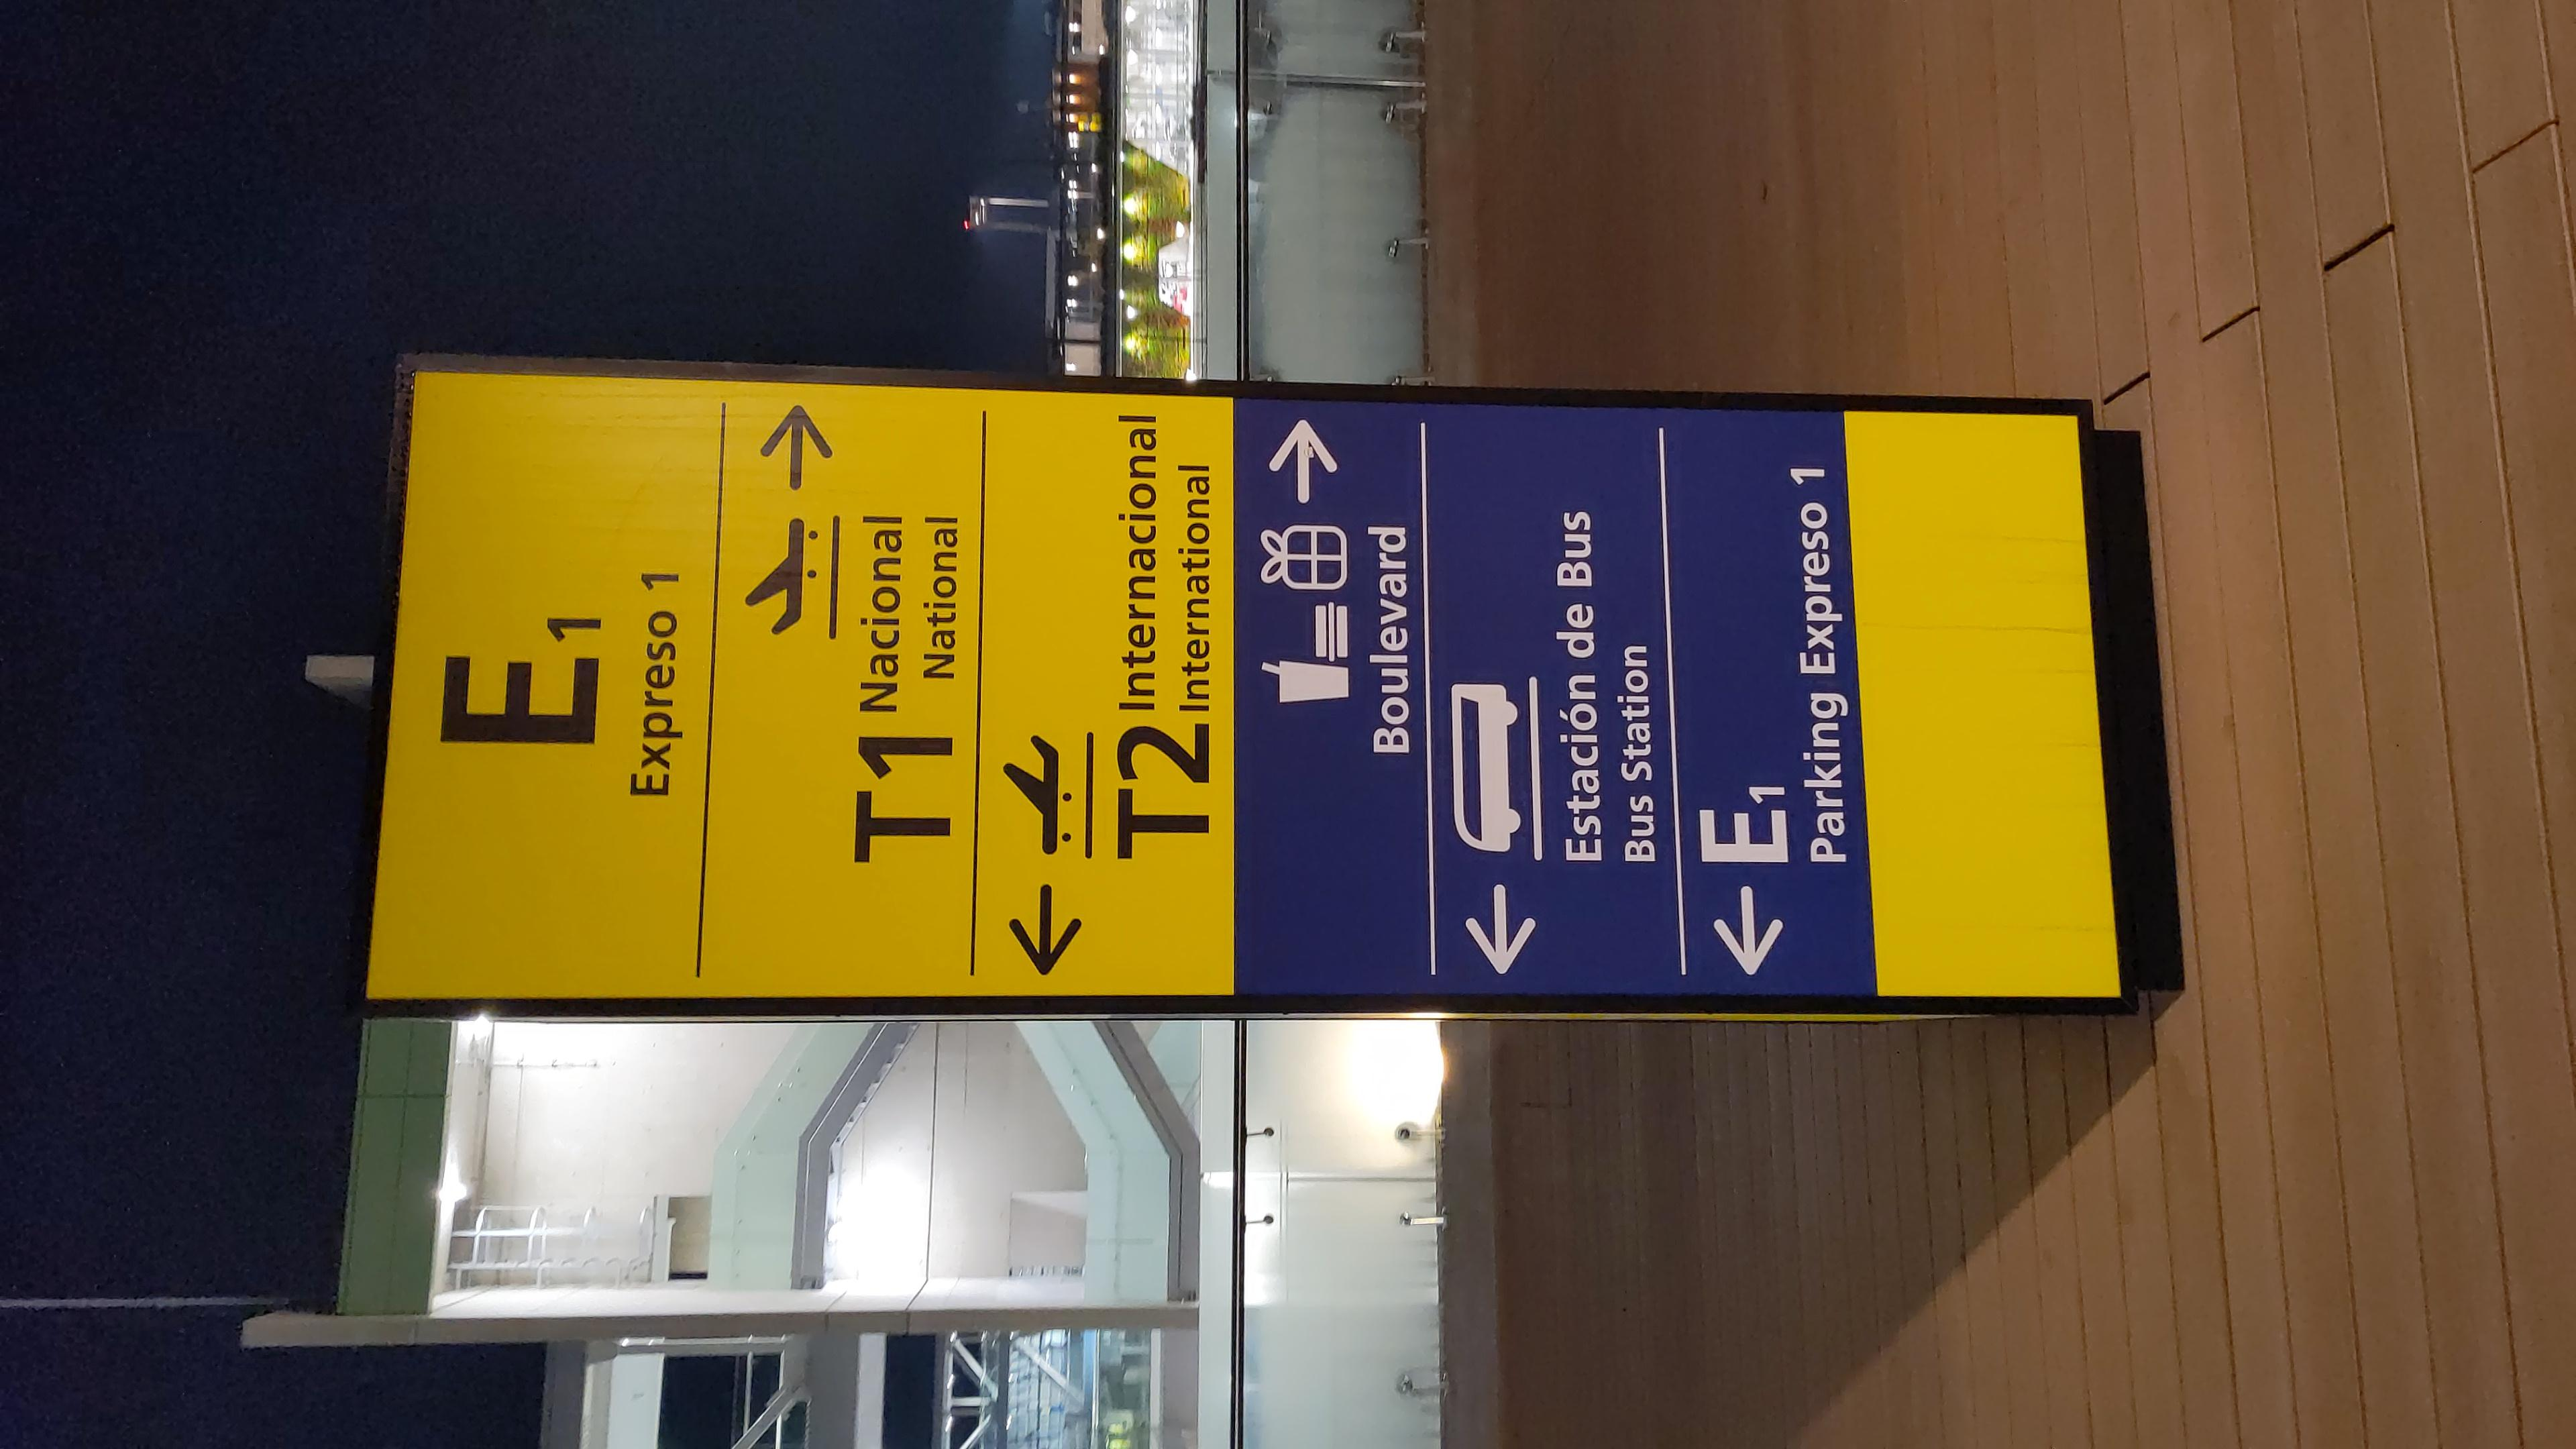airplane symbol: (1440, 416, 1675, 455), (1053, 563, 1279, 596)
thin left arrow: (837, 564, 1017, 614), (833, 821, 1010, 867), (833, 962, 1008, 1005)
thin right arrow: (1697, 423, 1870, 472), (1672, 711, 1836, 755)
